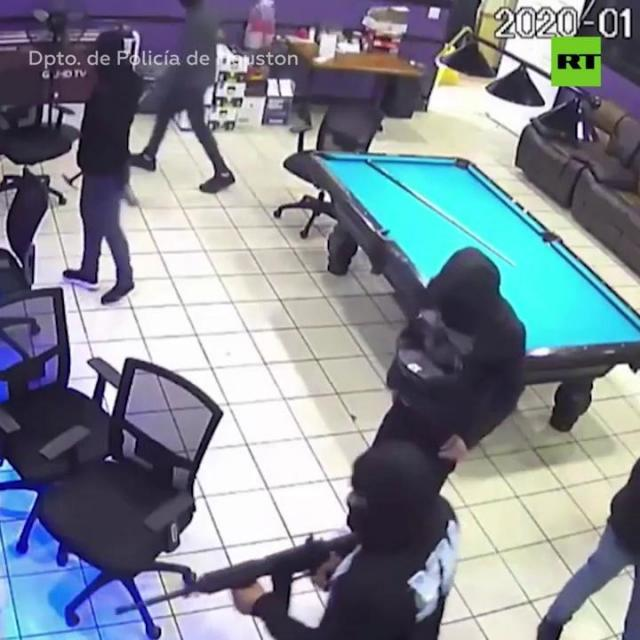weapon: (110, 530, 351, 640)
